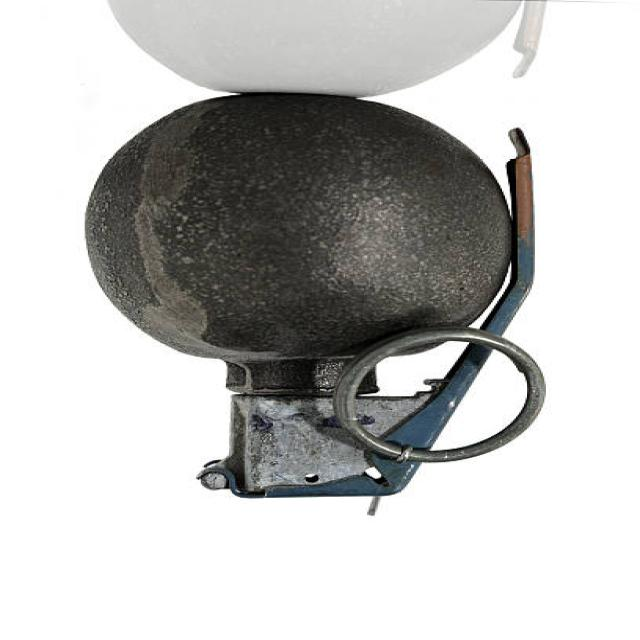grenade: (64, 90, 554, 519)
